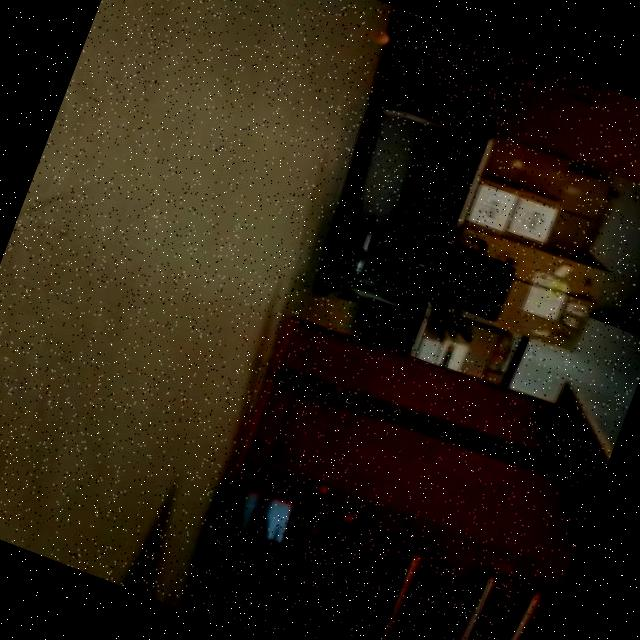ping-pong-ball: (368, 23, 397, 49)
